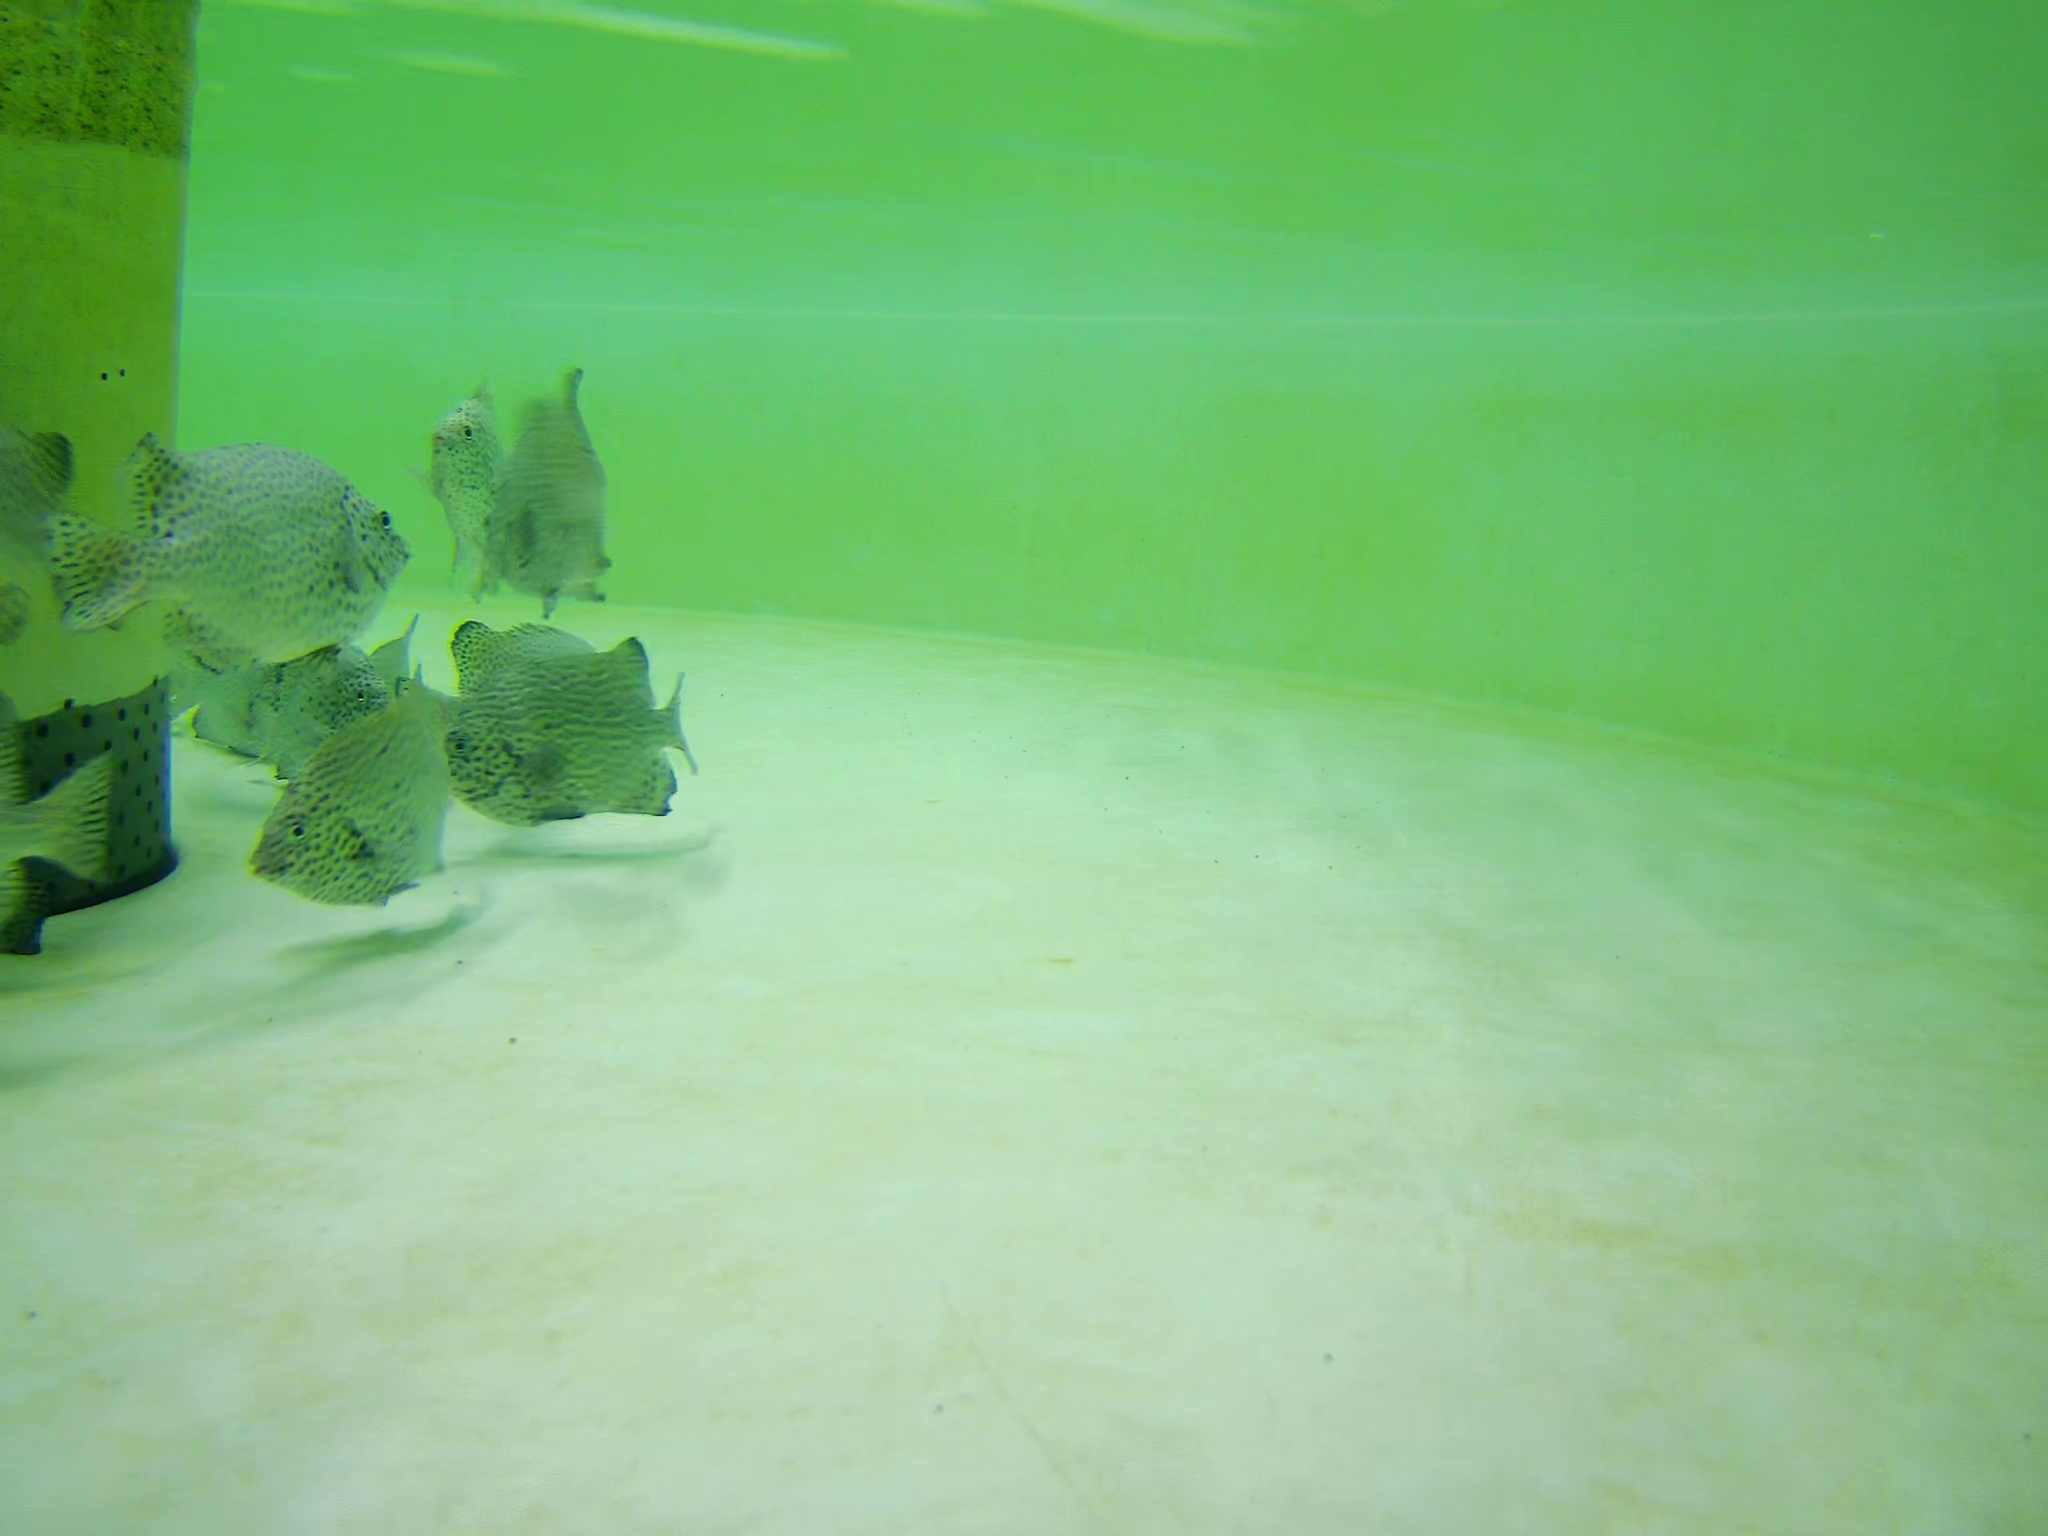fish: (53, 436, 414, 697), (431, 629, 697, 836), (247, 694, 456, 912), (482, 358, 619, 611), (195, 639, 424, 779), (2, 686, 123, 931), (435, 615, 614, 744), (2, 426, 84, 641), (408, 378, 490, 582)
